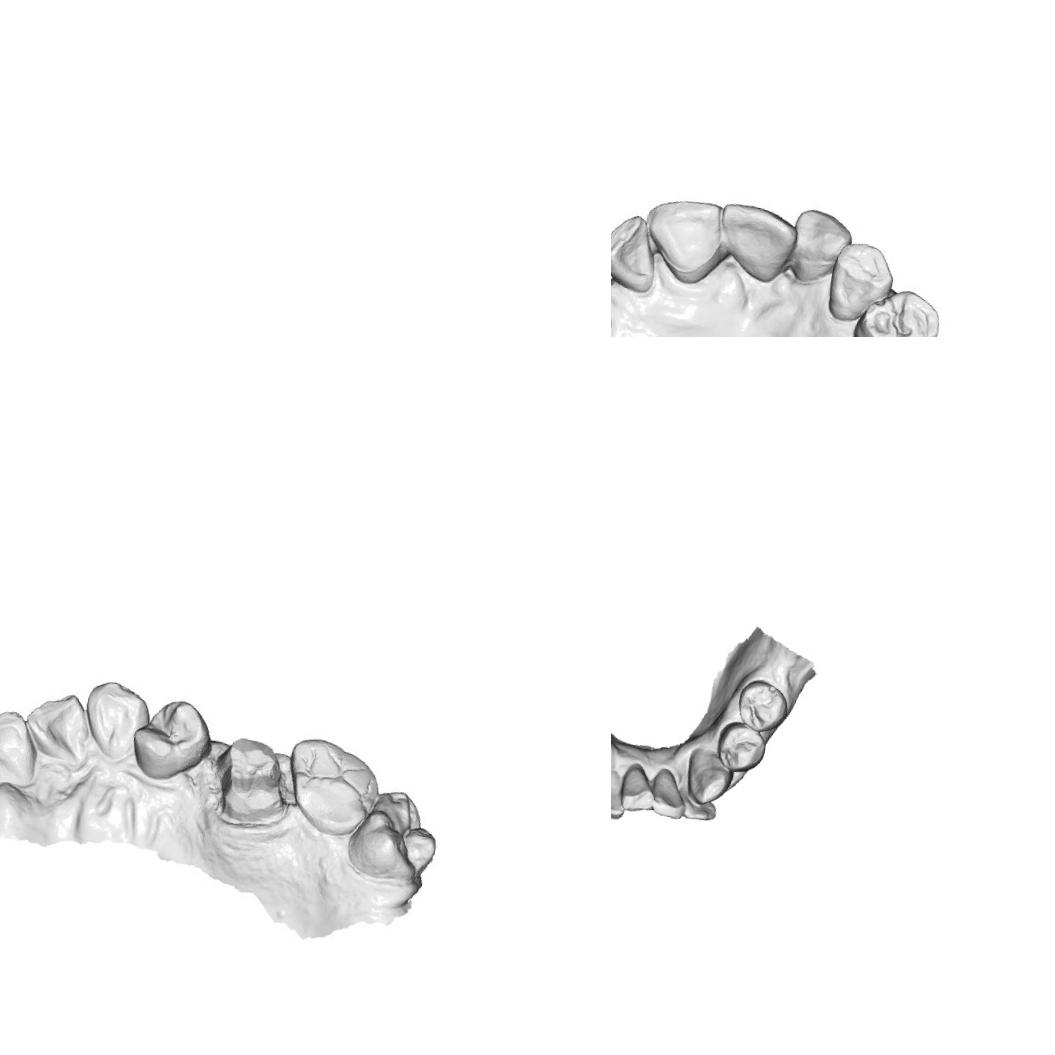canine: (76, 672, 153, 766), (824, 239, 899, 322), (680, 742, 738, 810)
crown: (204, 728, 295, 833)
incisor: (642, 191, 731, 283), (710, 198, 800, 284), (18, 684, 101, 769), (786, 206, 852, 287), (611, 209, 667, 296), (0, 697, 48, 798), (614, 758, 660, 816), (646, 764, 692, 822), (674, 779, 722, 824), (611, 763, 630, 821)
molar: (340, 780, 449, 894), (276, 729, 382, 845)
premolar: (125, 690, 218, 789), (848, 280, 945, 337), (730, 674, 793, 736), (710, 718, 770, 776)
